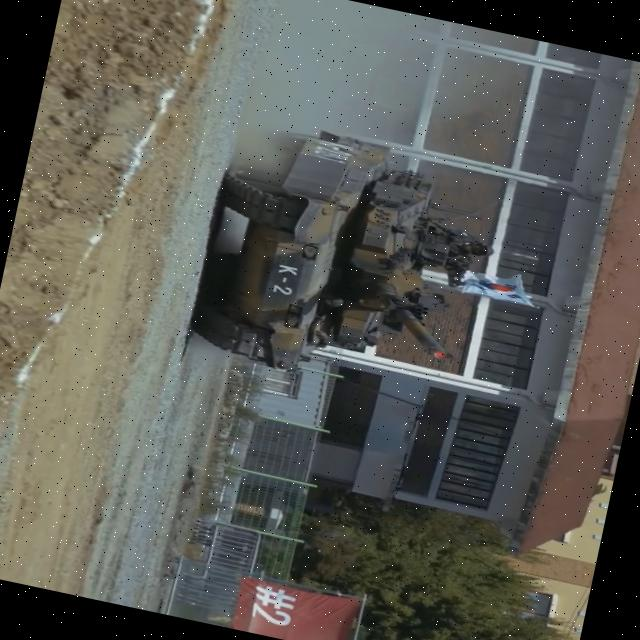korea tank: (183, 111, 514, 410)
